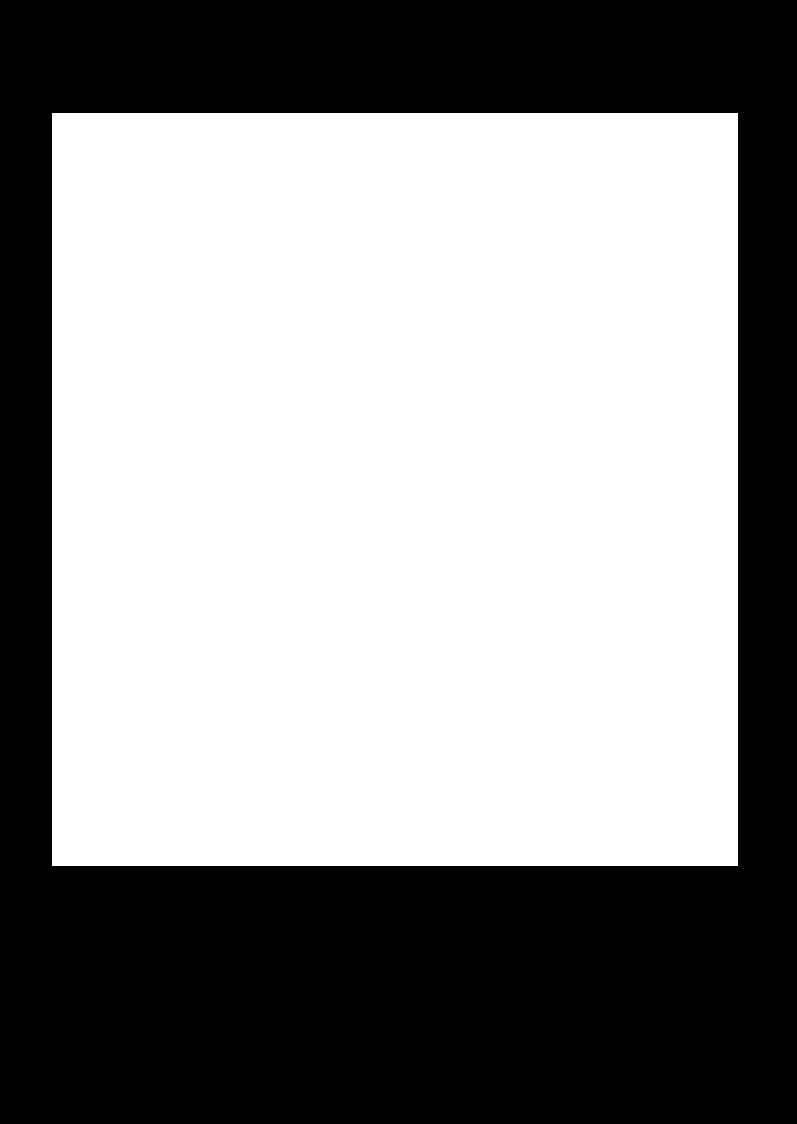table: (52, 113, 737, 865)
